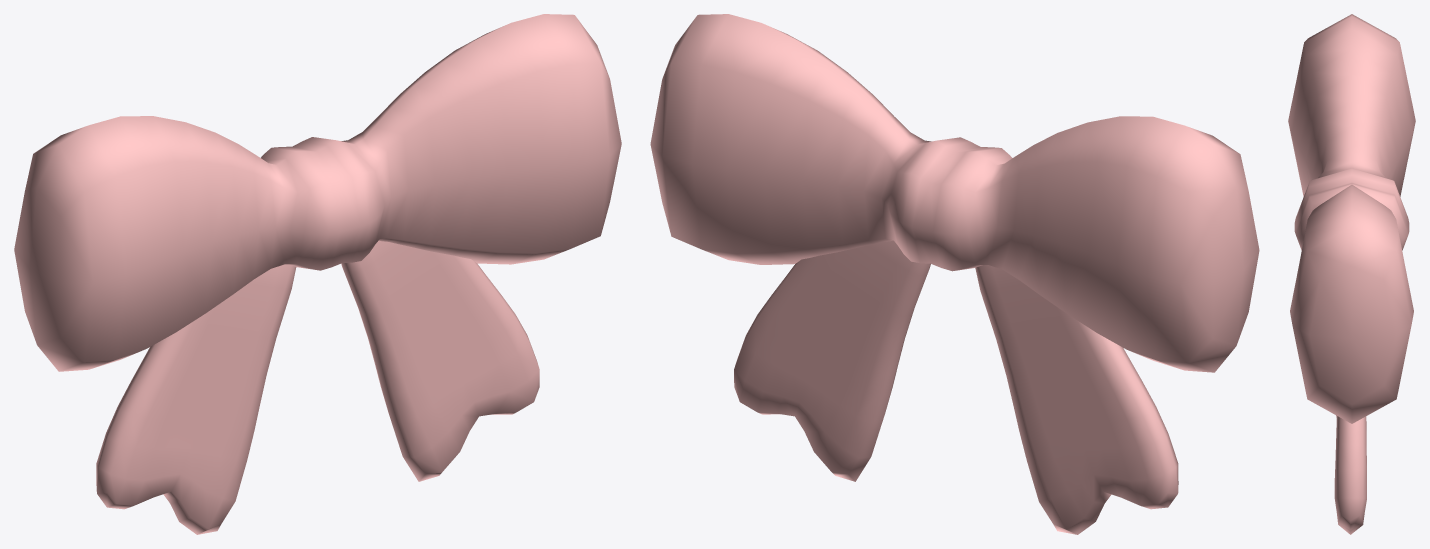
The model's file is 蝴蝶结，静态图(1).fbx.
3 views of the same model, side by side, from view 1: azimuth 30°, elevation 25°; view 2: azimuth 150°, elevation 25°; view 3: azimuth 270°, elevation 25° (orthographic). The views are drawn at different scales.
Parts seen in each view (by area): view 1: pCube1, pCube2; view 2: pCube1, pCube2; view 3: pCube1, pCube2.
Boxes of the visible parts, x1,y1,x2,y2 form: pCube1: (14, 14, 621, 371); pCube2: (96, 240, 539, 534); pCube1: (650, 14, 1259, 372); pCube2: (734, 240, 1178, 534); pCube1: (1288, 14, 1415, 423); pCube2: (1334, 415, 1366, 534).
Size of the model in its own units: 2.05 by 1.49 by 0.46.
